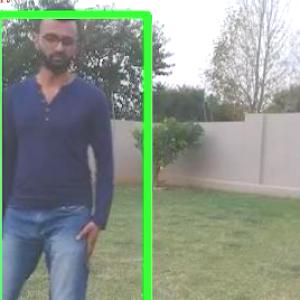follow: (0, 0, 111, 299)
